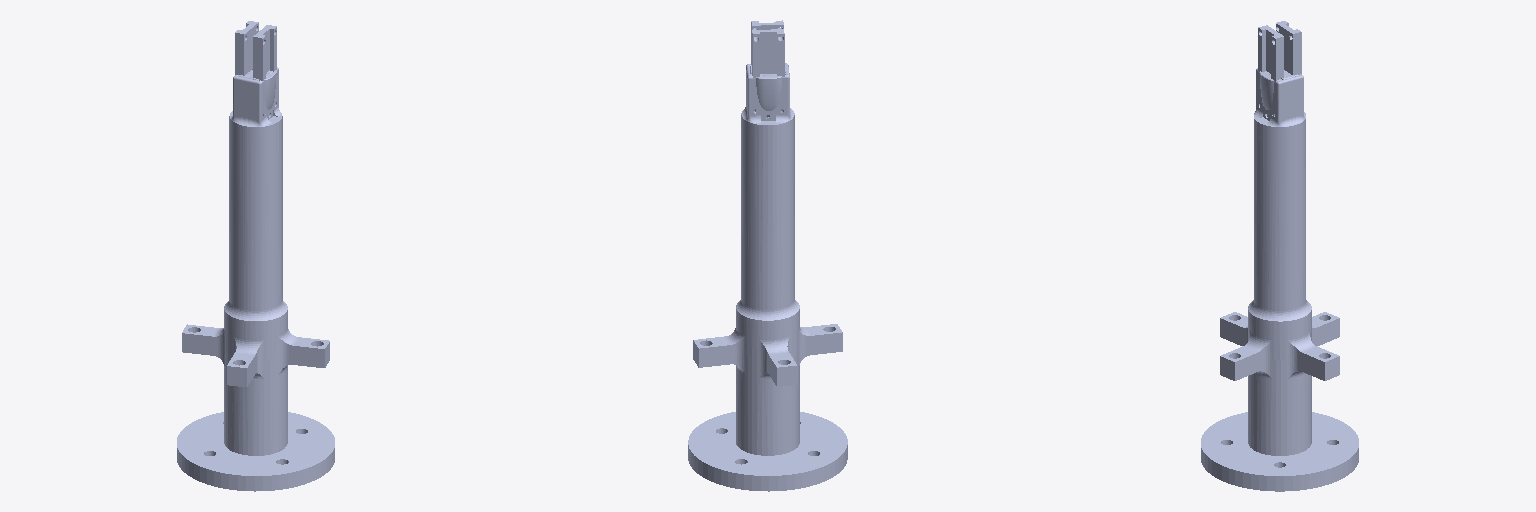
URDF robot description (Sensor_holer_nc):
<?xml version="1.0" encoding="utf-8"?>
<!-- This URDF was automatically created by SolidWorks to URDF Exporter! Originally created by Stephen Brawner (brawner@gmail.com) 
     Commit Version: 1.6.0-4-g7f85cfe  Build Version: 1.6.7995.38578
     For more information, please see http://wiki.ros.org/sw_urdf_exporter -->
<robot
  name="Sensor_holer_nc">
  <link
    name="sensor_base">
    <inertial>
      <origin
        xyz="-2.6315E-07 -1.7193E-07 0.066767"
        rpy="0 0 0" />
      <mass
        value="0.14412" />
      <inertia
        ixx="0.00015659"
        ixy="-3.3629E-08"
        ixz="2.4341E-09"
        iyy="0.00015662"
        iyz="1.5903E-09"
        izz="3.8483E-05" />
    </inertial>
    <visual>
      <origin
        xyz="0 0 0"
        rpy="0 0 0" />
      <geometry>
        <mesh
          filename="package://tactile_raw_point_publisher/meshes/sensor_base.STL" />
      </geometry>
      <material
        name="">
        <color
          rgba="0.79216 0.81961 0.93333 1" />
      </material>
    </visual>
    <collision>
      <origin
        xyz="0 0 0"
        rpy="0 0 0" />
      <geometry>
        <mesh
          filename="package://tactile_raw_point_publisher/meshes/sensor_base.STL" />
      </geometry>
    </collision>
  </link>
  <link
    name="sensor_3_link">
    <inertial>
      <origin
        xyz="8.2474E-06 -0.0073777 -0.0036856"
        rpy="0 0 0" />
      <mass
        value="0.0062307" />
      <inertia
        ixx="5.2926E-07"
        ixy="-1.9802E-10"
        ixz="4.3177E-12"
        iyy="1.8192E-07"
        iyz="1.3607E-08"
        izz="5.9373E-07" />
    </inertial>
    <visual>
      <origin
        xyz="0 0 0"
        rpy="0 0 0" />
      <geometry>
        <mesh
          filename="package://tactile_raw_point_publisher/meshes/sensor_3_link.STL" />
      </geometry>
      <material
        name="">
        <color
          rgba="0.79216 0.81961 0.93333 1" />
      </material>
    </visual>
    <collision>
      <origin
        xyz="0 0 0"
        rpy="0 0 0" />
      <geometry>
        <mesh
          filename="package://tactile_raw_point_publisher/meshes/sensor_3_link.STL" />
      </geometry>
    </collision>
  </link>
  <joint
    name="sensor_3_link_joint"
    type="fixed">
    <origin
      xyz="0.0020191 -0.0032797 0.20148"
      rpy="-1.6223 0 0.57871" />
    <parent
      link="sensor_base" />
    <child
      link="sensor_3_link" />
    <axis
      xyz="0 0 0" />
  </joint>
  <link
    name="sensor_1_link">
    <inertial>
      <origin
        xyz="8.2514E-06 -0.0073777 -0.0036856"
        rpy="0 0 0" />
      <mass
        value="0.0062307" />
      <inertia
        ixx="5.2926E-07"
        ixy="-1.9778E-10"
        ixz="4.388E-12"
        iyy="1.8192E-07"
        iyz="1.3607E-08"
        izz="5.9373E-07" />
    </inertial>
    <visual>
      <origin
        xyz="0 0 0"
        rpy="0 0 0" />
      <geometry>
        <mesh
          filename="package://tactile_raw_point_publisher/meshes/sensor_1_link.STL" />
      </geometry>
      <material
        name="">
        <color
          rgba="0.79216 0.81961 0.93333 1" />
      </material>
    </visual>
    <collision>
      <origin
        xyz="0 0 0"
        rpy="0 0 0" />
      <geometry>
        <mesh
          filename="package://tactile_raw_point_publisher/meshes/sensor_1_link.STL" />
      </geometry>
    </collision>
  </link>
  <joint
    name="sensor_1_link_joint"
    type="fixed">
    <origin
      xyz="-0.0020191 0.0032797 0.20148"
      rpy="-1.6223 0 -2.5629" />
    <parent
      link="sensor_base" />
    <child
      link="sensor_1_link" />
    <axis
      xyz="1 0 0" />
  </joint>
</robot>

--- Facts derived from the render (not from the file) ---
3 views of the same robot in one strip: view 1: azimuth 30°, elevation 25°; view 2: azimuth 150°, elevation 25°; view 3: azimuth 270°, elevation 25° (orthographic).
Model Sensor_holer_nc with 3 links and 2 joints (2 fixed), rooted at sensor_base, posed every joint at zero.
Links seen in each view (by area): view 1: sensor_base, sensor_1_link, sensor_3_link; view 2: sensor_base, sensor_1_link, sensor_3_link; view 3: sensor_base, sensor_1_link, sensor_3_link.
Boxes of the visible links, left/top/right/bottom form: sensor_base: left=177, top=67, right=334, bottom=491; sensor_1_link: left=235, top=21, right=276, bottom=109; sensor_3_link: left=238, top=25, right=276, bottom=119; sensor_base: left=688, top=63, right=847, bottom=491; sensor_1_link: left=750, top=29, right=785, bottom=120; sensor_3_link: left=750, top=20, right=785, bottom=116; sensor_base: left=1201, top=68, right=1358, bottom=491; sensor_1_link: left=1259, top=21, right=1301, bottom=109; sensor_3_link: left=1258, top=25, right=1298, bottom=120.
Bounding box of the posed robot: 0.0749 × 0.075 × 0.223 m (x, y, z).
3 mesh visuals loaded from 3 distinct referenced files (3 binary STL).
